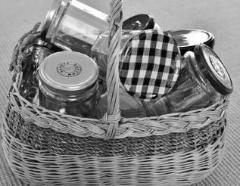glass: (29, 0, 235, 116)
